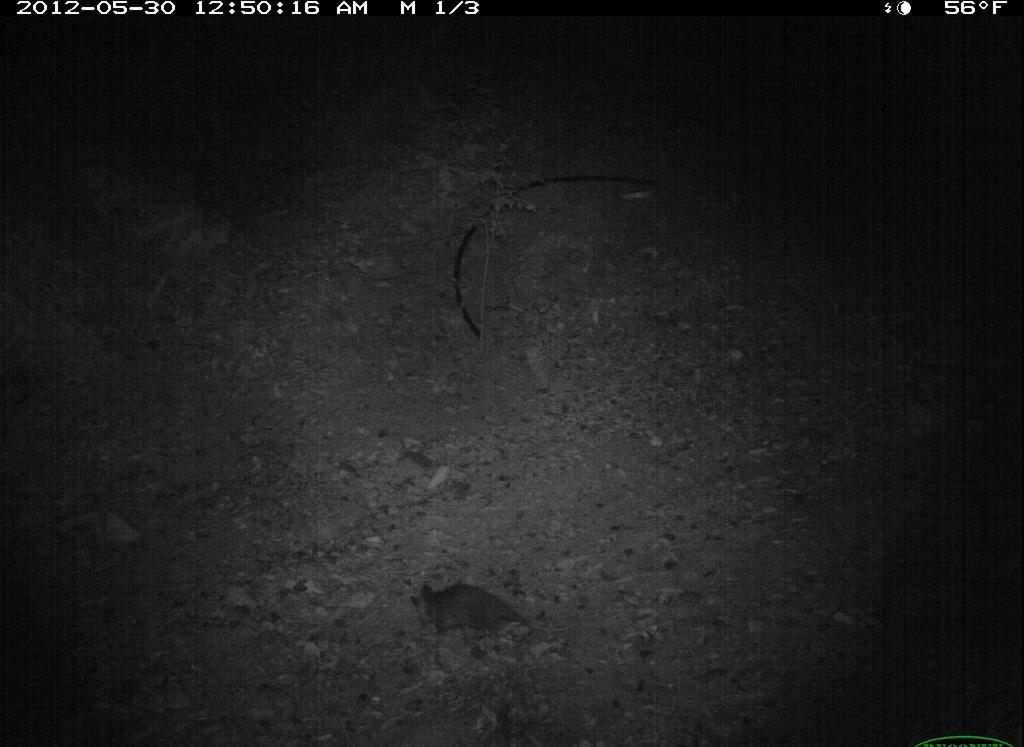opossum: (383, 536, 559, 680)
